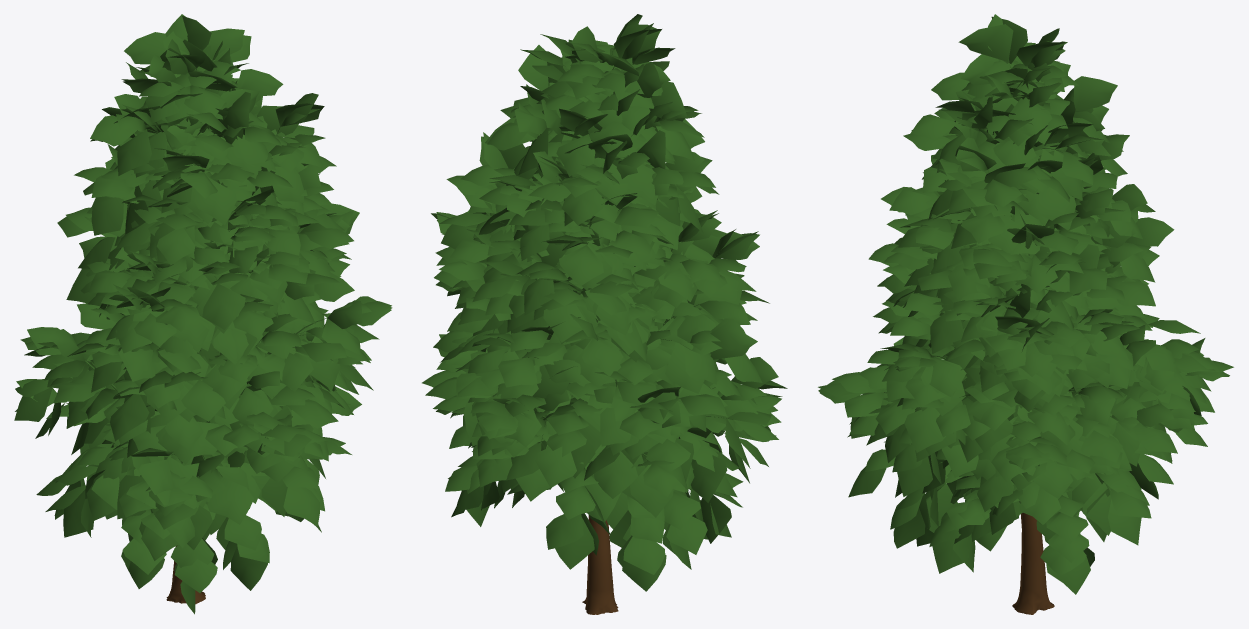
File: Tree 01.fbx
The picture shows the model from 3 angles, left to right: view 1: azimuth 30°, elevation 25°; view 2: azimuth 150°, elevation 25°; view 3: azimuth 270°, elevation 25°; orthographic projection.
Parts seen in each view (by area): view 1: Tree; view 2: Tree, Tree.001; view 3: Tree, Tree.001.
Part boxes in pixels (x1=…): Tree: x1=14, y1=14, x2=392, y2=614; Tree: x1=422, y1=14, x2=787, y2=591; Tree.001: x1=582, y1=515, x2=618, y2=614; Tree: x1=818, y1=14, x2=1233, y2=594; Tree.001: x1=1012, y1=513, x2=1054, y2=614.
Bounding box in the file's own units: 424 × 759 × 499.
